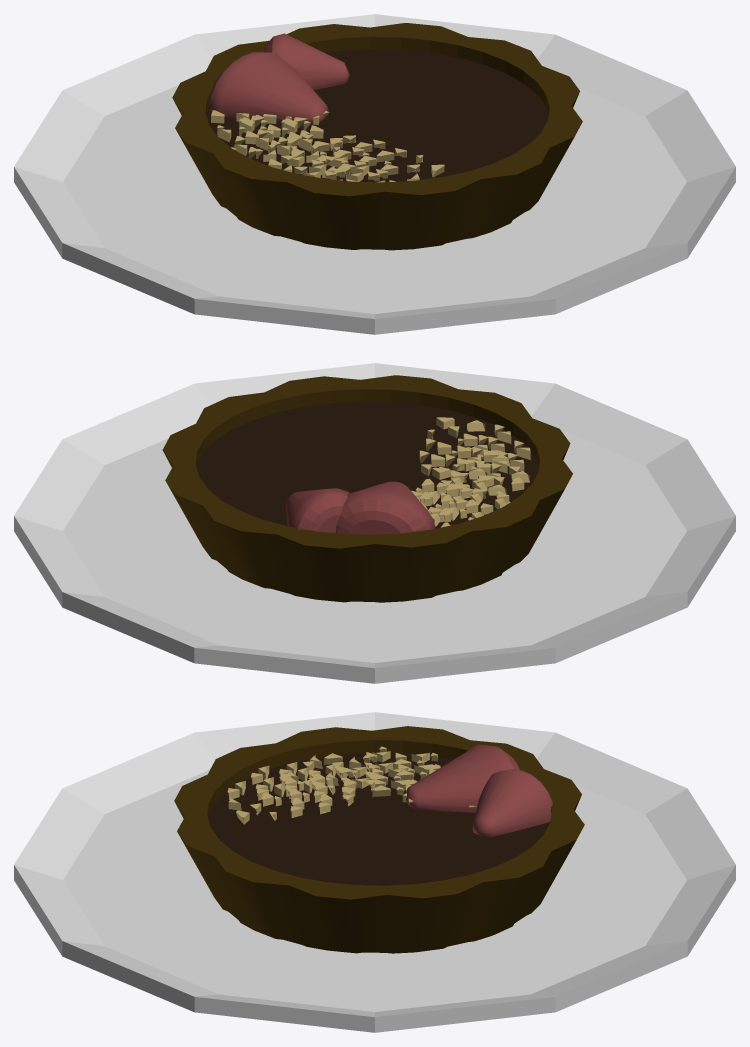
File: tart.fbx
3 renders of one model, top to bottom at view 1: azimuth 30°, elevation 25°; view 2: azimuth 150°, elevation 25°; view 3: azimuth 270°, elevation 25°, orthographic.
Visible parts, largest first — view 1: palte, pasted__nuts119; view 2: palte, pasted__nuts119; view 3: palte, pasted__nuts119.
Boxes of the visible parts, <box> form: palte: <box>14,14,735,334</box>; pasted__nuts119: <box>172,23,582,250</box>; palte: <box>14,363,735,683</box>; pasted__nuts119: <box>162,375,572,602</box>; palte: <box>14,712,735,1032</box>; pasted__nuts119: <box>174,726,584,953</box>.
Bounding box in the file's own units: 3.09 × 0.5415 × 3.09.
